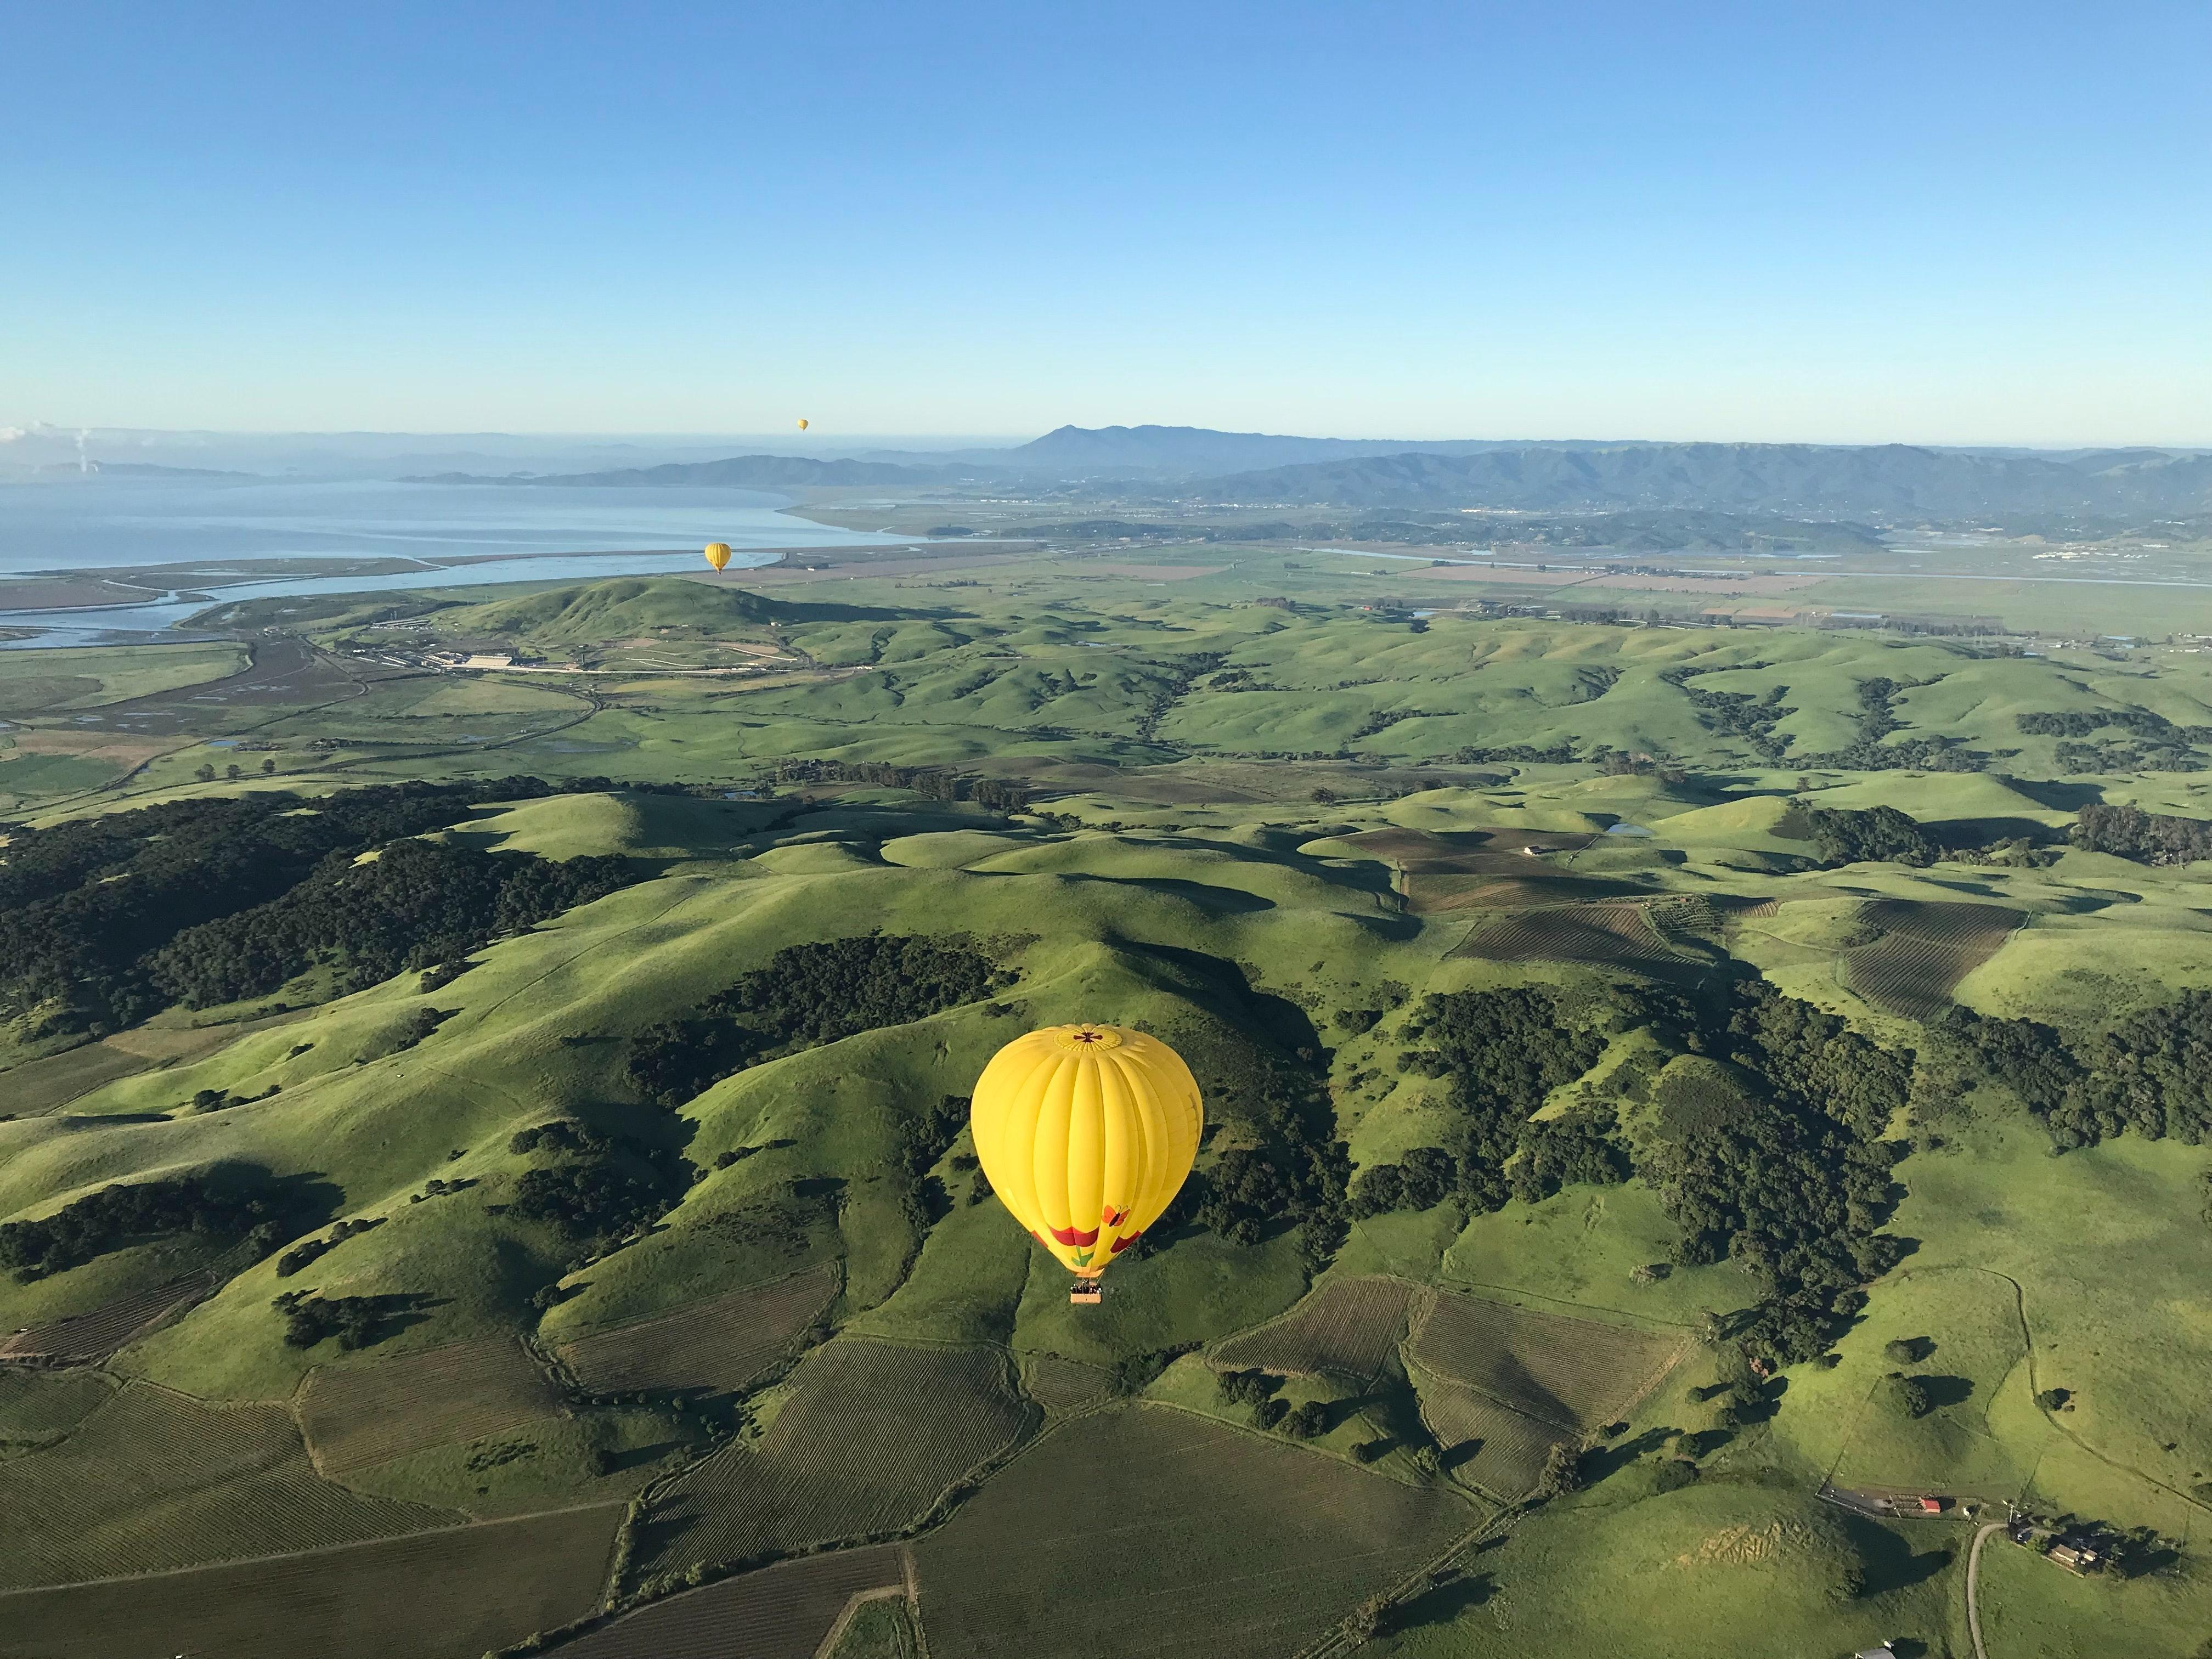hot air ballon: (970, 1021, 1204, 1304), (704, 544, 732, 575), (798, 418, 808, 429)
